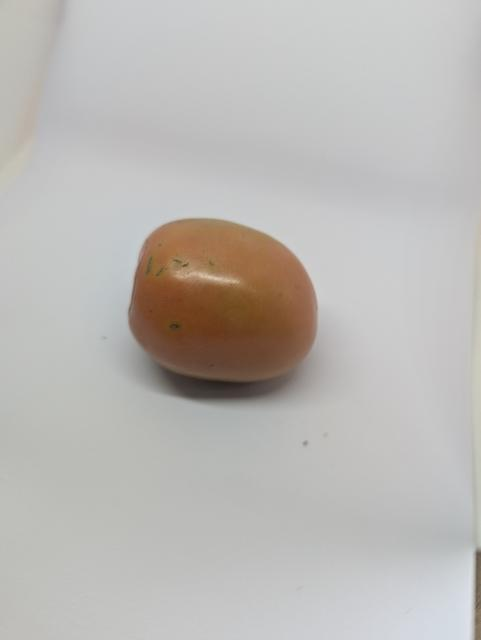turning: (111, 200, 325, 387)
